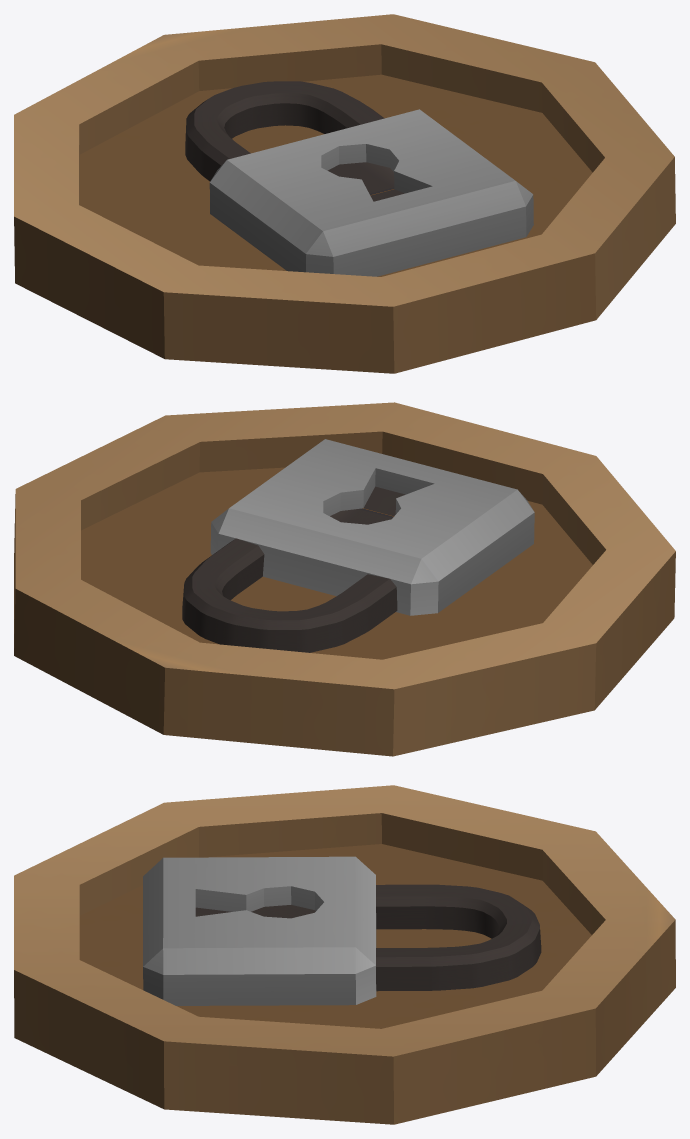
The model's file is SRLockPiece.fbx.
3 views of the same model, one above another, from view 1: azimuth 30°, elevation 25°; view 2: azimuth 150°, elevation 25°; view 3: azimuth 270°, elevation 25° (orthographic).
Visible parts, largest first — view 1: LockPiece; view 2: LockPiece; view 3: LockPiece.
Part boxes in pixels (x1,y1,x2,y2): LockPiece: (14,14,675,373); LockPiece: (14,402,675,756); LockPiece: (14,785,675,1124).
Size of the model in its own units: 0.0983 by 0.0153 by 0.0966.
